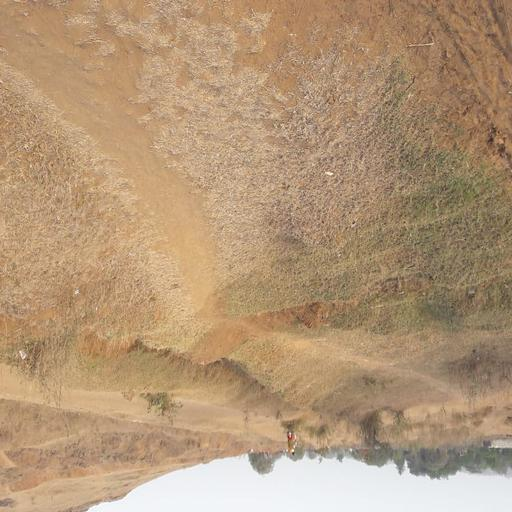vehicle_track: (0, 0, 214, 313)
